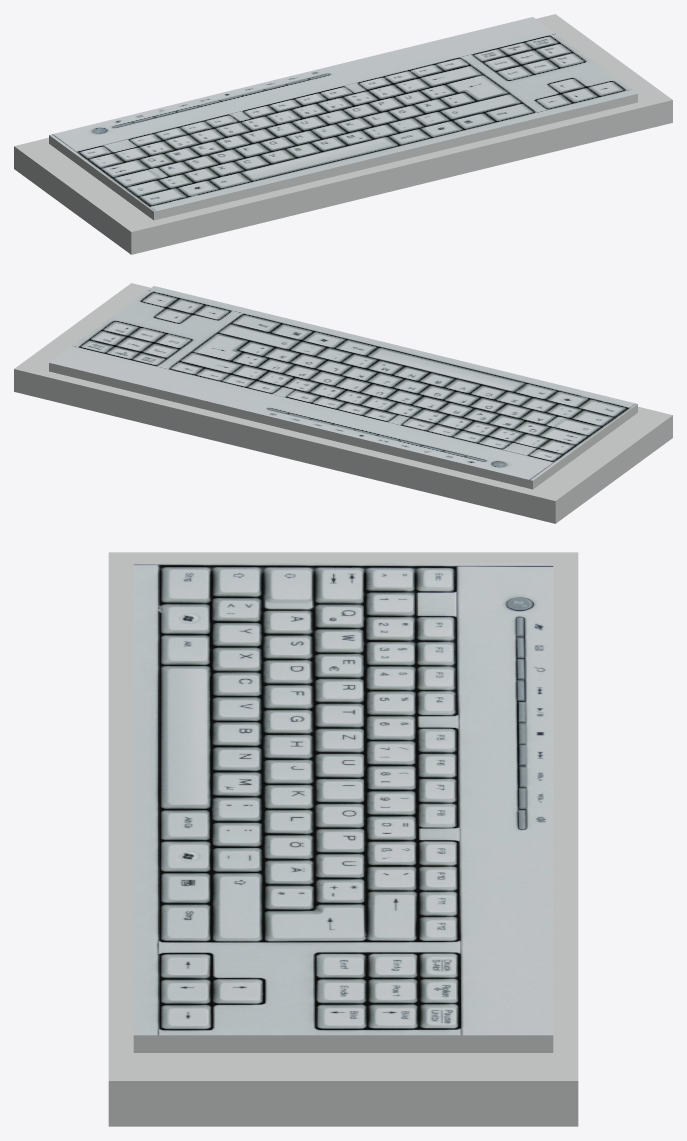
The model's file is клава.fbx.
The picture shows the model from 3 angles, top to bottom: view 1: azimuth 30°, elevation 25°; view 2: azimuth 150°, elevation 25°; view 3: azimuth 270°, elevation 25°; orthographic projection. The views are drawn at different scales.
Visible parts, largest first — view 1: Cube; view 2: Cube; view 3: Cube.
Boxes of the visible parts, x1,y1,x2,y2 form: Cube: (14,14,672,254); Cube: (14,283,672,523); Cube: (108,552,578,1126).
Size of the model in its own units: 279 by 15.5 by 105.
